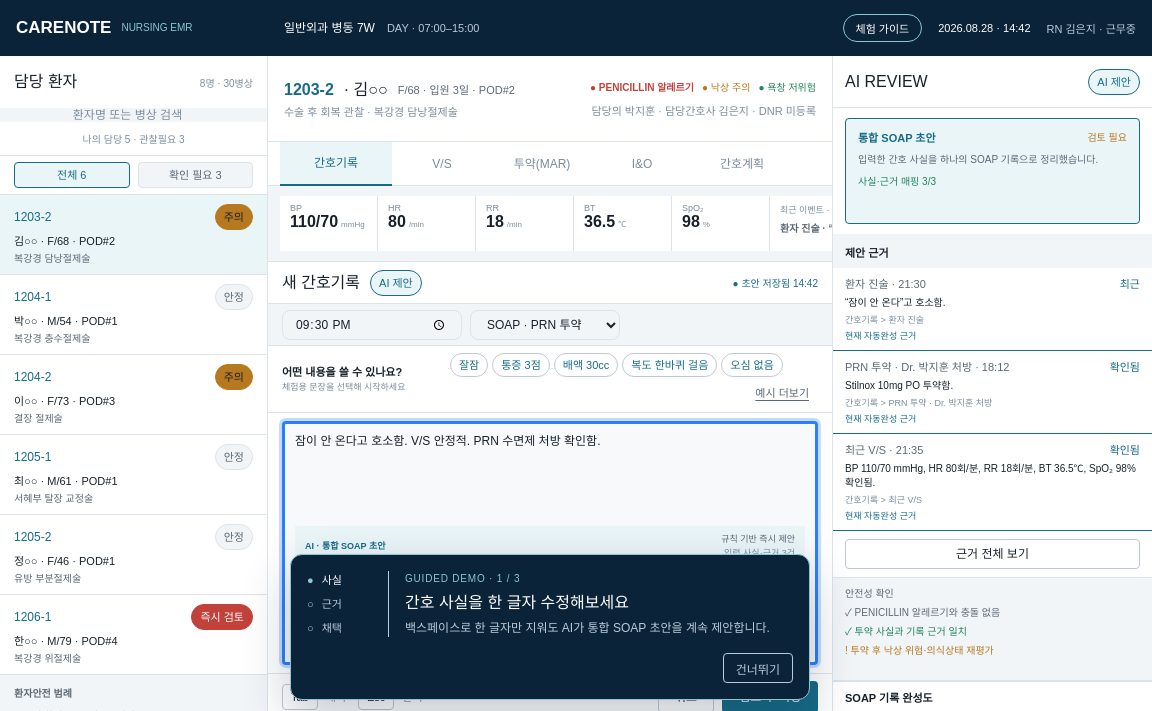
Test: ChartingWorkspace guided demo › brings the evidence into view with breakpoint-neutral guidance
This screenshot has width=1152, height=711.
Click the text box named "간호 사실 입력" at (550, 474), box [283,422,817,526]
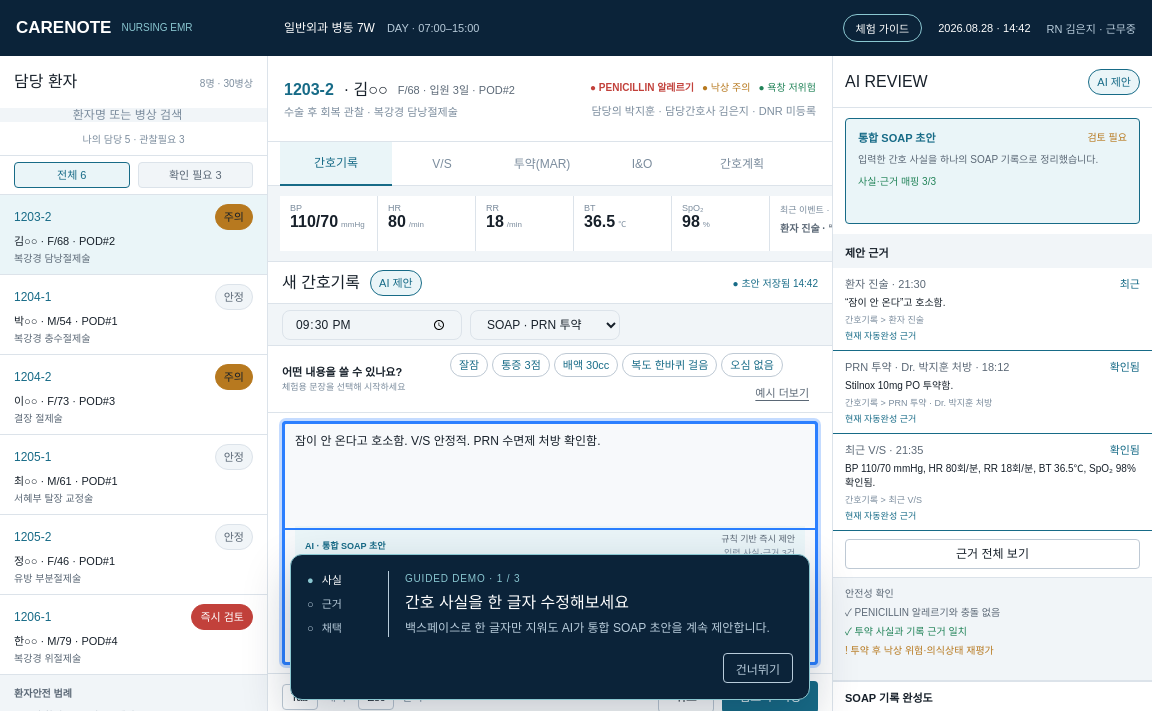
Press Backspace
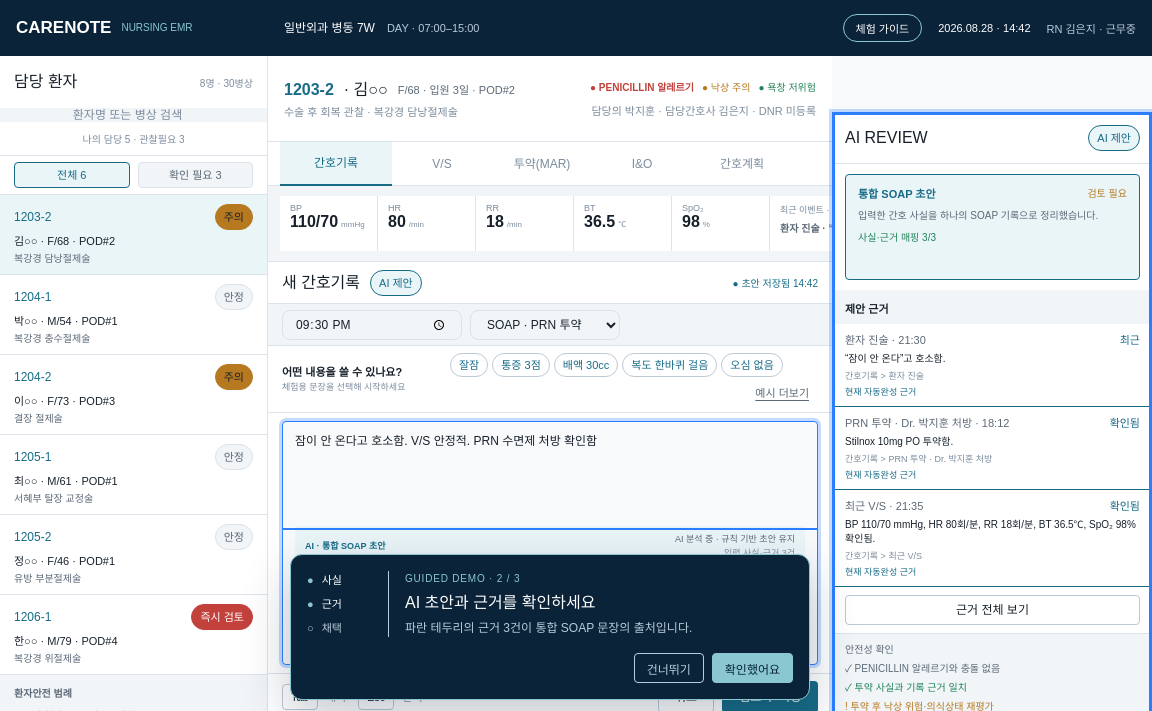
Now the text "파란 테두리의 근거 3건이 통합 SOAP 문장의 출처입니다." is shown, box [405,621,692,635]
